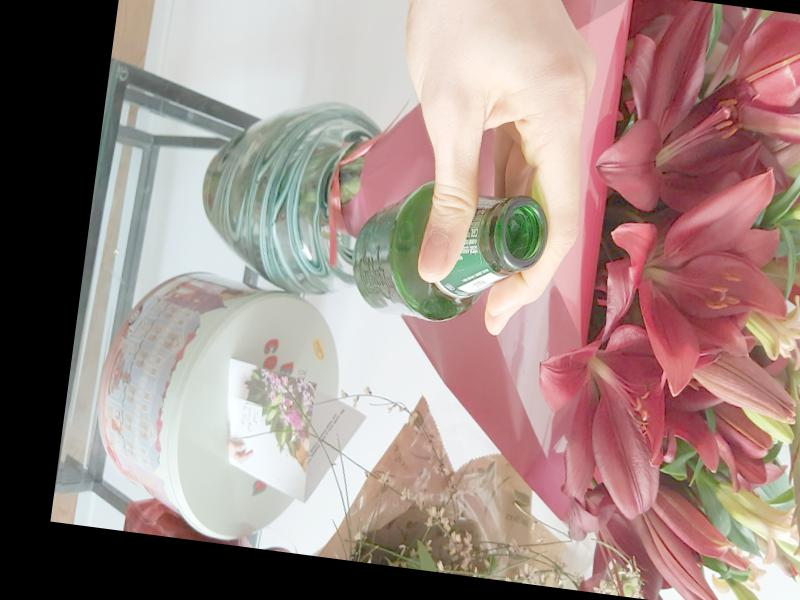Beer: (346, 170, 553, 333)
